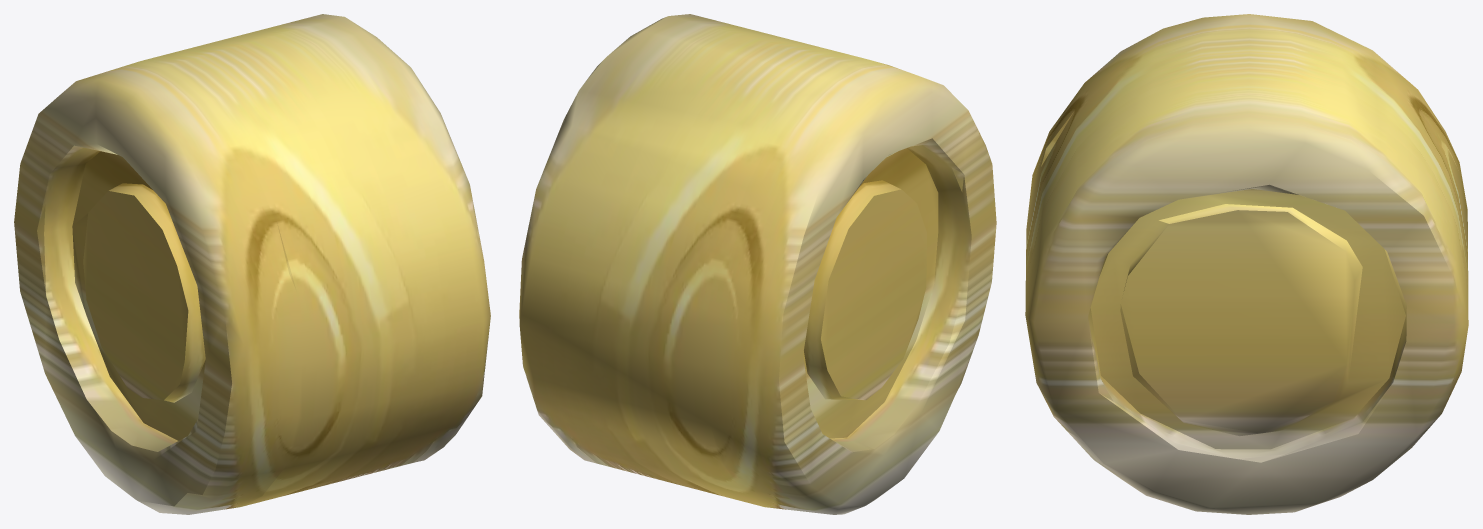
3 renders of one model, left to right at view 1: azimuth 30°, elevation 25°; view 2: azimuth 150°, elevation 25°; view 3: azimuth 270°, elevation 25°, orthographic. The views are drawn at different scales.
Visible parts, largest first — view 1: Decor_hay_bale_round; view 2: Decor_hay_bale_round; view 3: Decor_hay_bale_round.
Part boxes in pixels (<box>): Decor_hay_bale_round: <box>14,14,490,514</box>; Decor_hay_bale_round: <box>519,14,996,514</box>; Decor_hay_bale_round: <box>1025,14,1468,514</box>.
Size of the model in its own units: 0.7923 by 1.2 by 1.2.
1 material, 1 textured.
